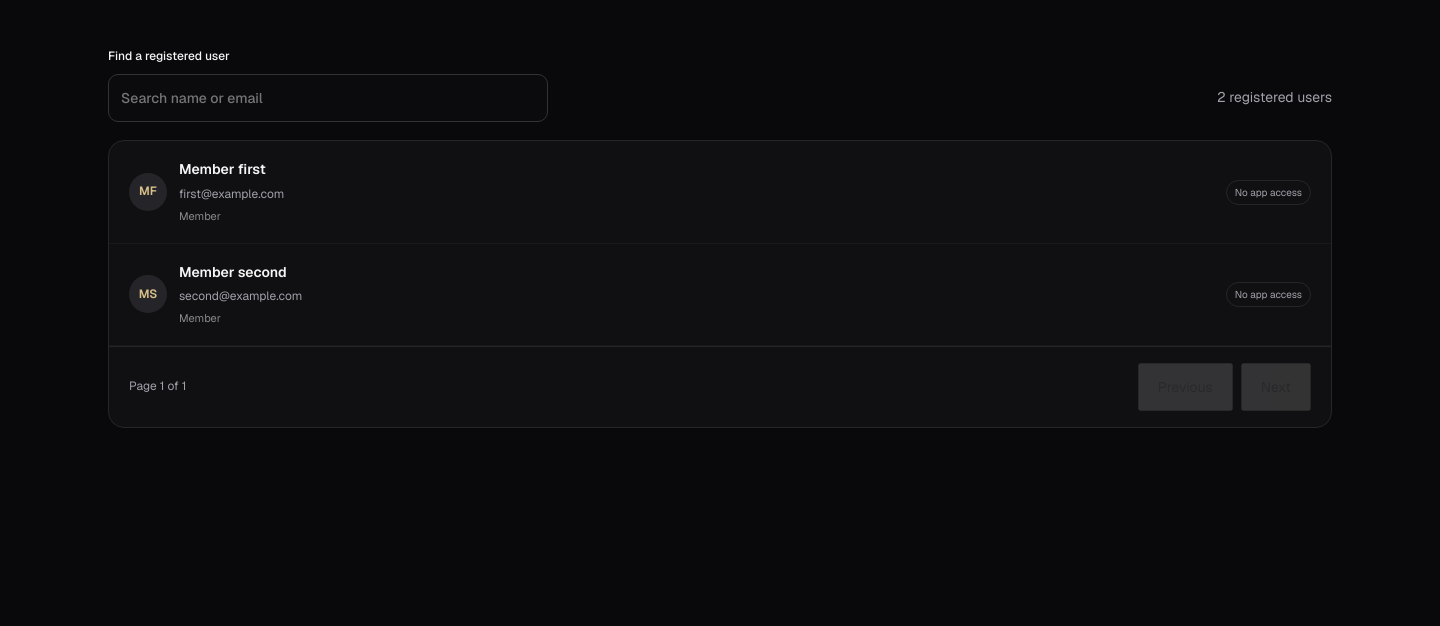
Test: users and access permissions › keeps free access unavailable for unverified users
Click the button "MF Member first first@example.com Member No app access" at (148, 192), box [109,142,1331,244]
(page scrolled)
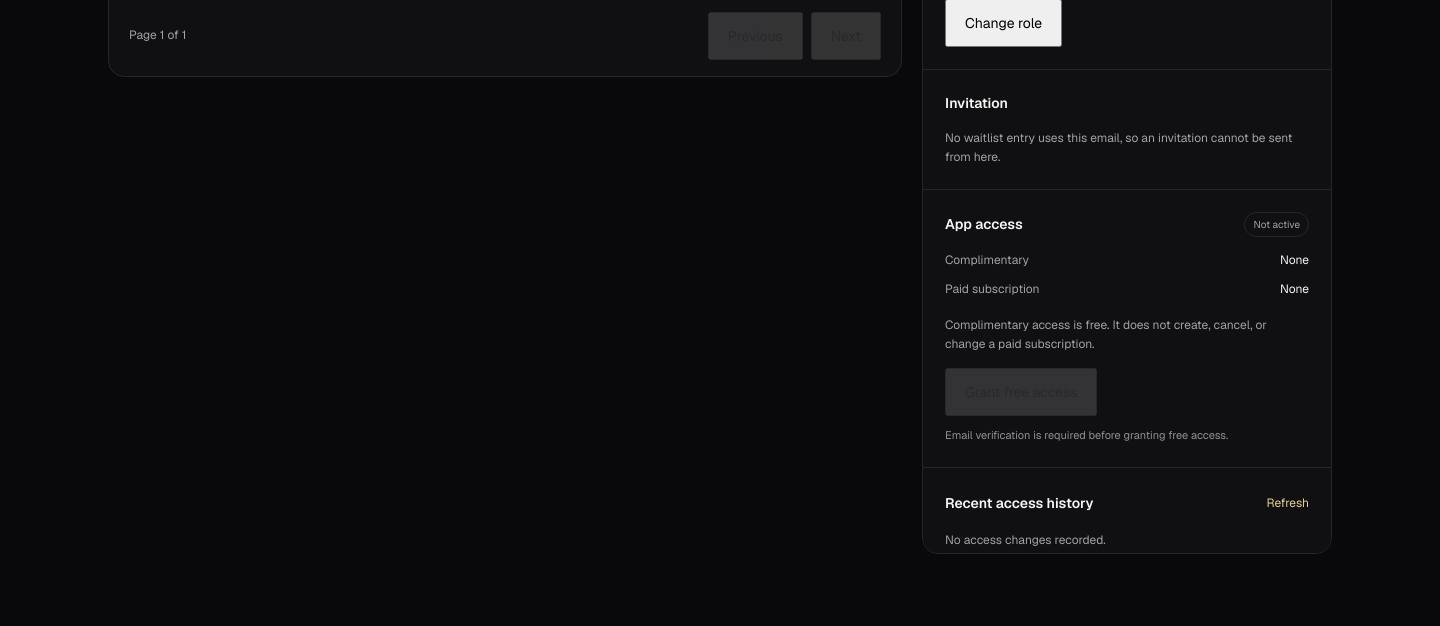
Expected: the button "Grant free access" is disabled, [945,368,1098,416]
